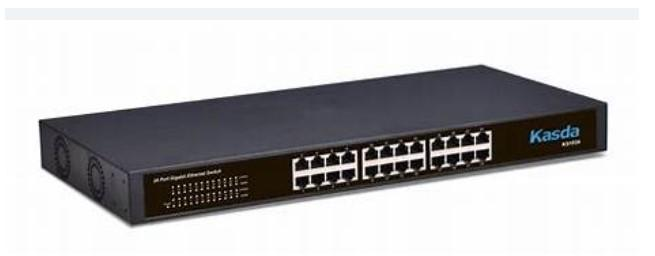NetworkSwitch: (37, 65, 608, 226)
